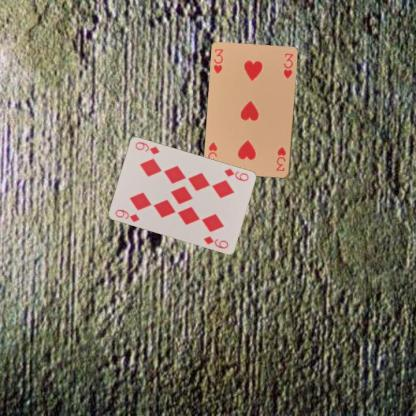3h: (273, 144, 287, 173), (211, 46, 224, 76)
9d: (221, 166, 250, 182), (113, 207, 140, 224)
